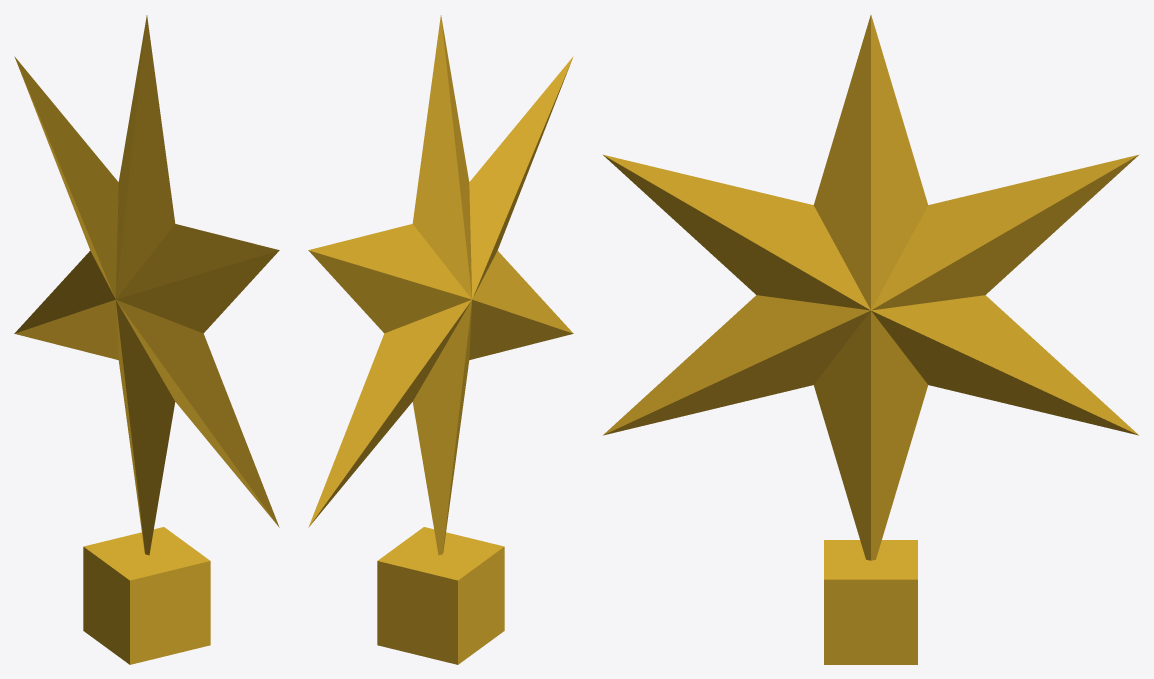
Rendered from Gwiazda.fbx.
3 views of the same model, side by side, from view 1: azimuth 30°, elevation 25°; view 2: azimuth 150°, elevation 25°; view 3: azimuth 270°, elevation 25° (orthographic).
Visible parts, largest first — view 1: Gwiazda; view 2: Gwiazda; view 3: Gwiazda.
Part boxes in pixels (bbox=[...]): Gwiazda: bbox=[14, 15, 279, 664]; Gwiazda: bbox=[308, 15, 573, 664]; Gwiazda: bbox=[603, 15, 1138, 664].
Size of the model in its own units: 0.3035 by 2.24 by 1.73.
